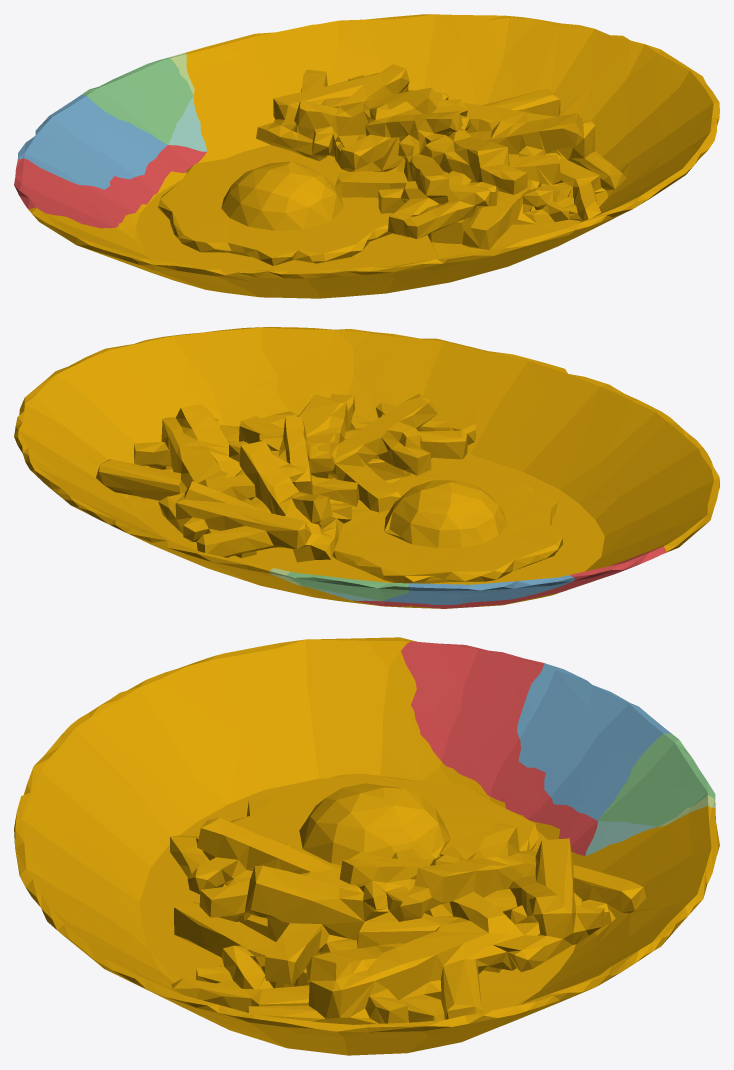
Rendered from fractured_38_6pcs.glb.
3 views of the same model, one above another, from view 1: azimuth 30°, elevation 25°; view 2: azimuth 150°, elevation 25°; view 3: azimuth 270°, elevation 25° (orthographic). The views are drawn at different scales.
Parts seen in each view (by area): view 1: piece_0.obj, piece_2.obj, piece_1.obj, piece_3.obj, piece_4.obj; view 2: piece_0.obj, piece_2.obj, piece_1.obj, piece_3.obj; view 3: piece_0.obj, piece_1.obj, piece_2.obj, piece_3.obj, piece_4.obj.
Boxes of the visible parts, x1=… form: piece_0.obj: x1=28, y1=14, x2=719, y2=298; piece_2.obj: x1=18, y1=94, x2=167, y2=189; piece_1.obj: x1=14, y1=145, x2=206, y2=228; piece_3.obj: x1=82, y1=57, x2=193, y2=144; piece_4.obj: x1=168, y1=96, x2=206, y2=151; piece_0.obj: x1=14, y1=327, x2=719, y2=608; piece_2.obj: x1=383, y1=575, x2=574, y2=604; piece_1.obj: x1=353, y1=546, x2=666, y2=608; piece_3.obj: x1=286, y1=571, x2=409, y2=601; piece_0.obj: x1=14, y1=637, x2=719, y2=1055; piece_1.obj: x1=401, y1=641, x2=597, y2=855; piece_2.obj: x1=517, y1=663, x2=671, y2=820; piece_3.obj: x1=598, y1=733, x2=715, y2=826; piece_4.obj: x1=585, y1=821, x2=656, y2=855.
Bounding box in the file's own units: 1 × 0.1241 × 0.7609.
